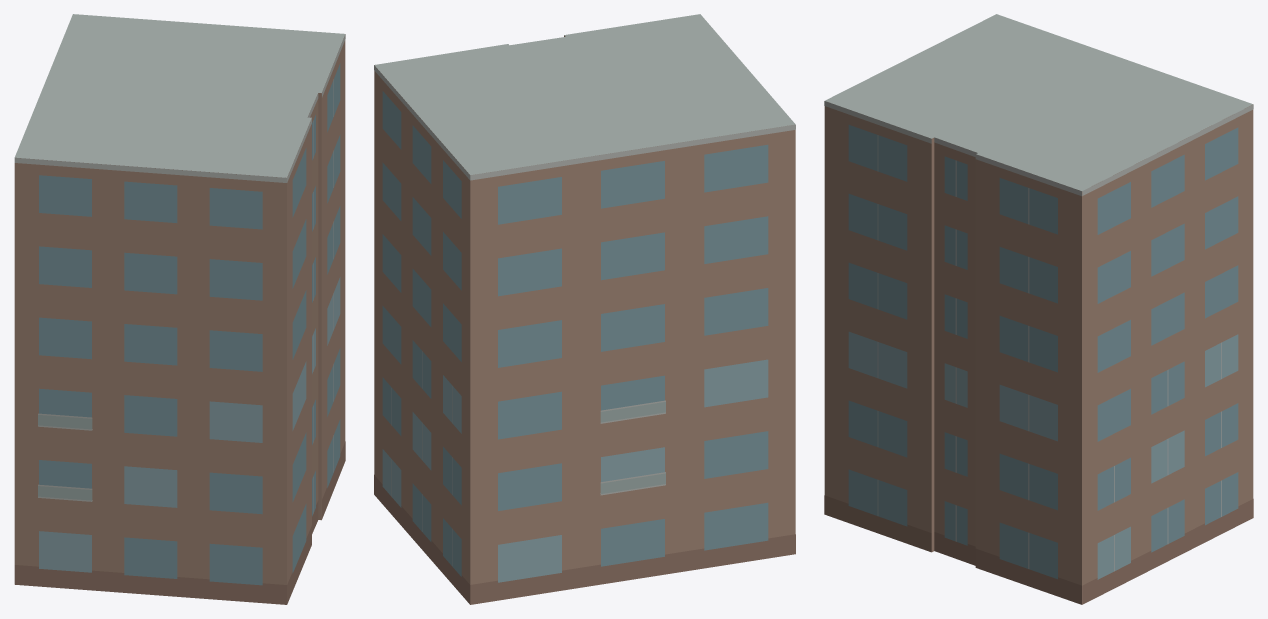
File: survey-upis-32883336.glb
3 views of the same model, side by side, from view 1: azimuth 30°, elevation 25°; view 2: azimuth 150°, elevation 25°; view 3: azimuth 270°, elevation 25° (orthographic). The views are drawn at different scales.
Visible parts, largest first — view 1: survey-upis-32883336.tmp; view 2: survey-upis-32883336.tmp; view 3: survey-upis-32883336.tmp.
Boxes of the visible parts, bbox=[...] form: survey-upis-32883336.tmp: bbox=[14, 14, 345, 604]; survey-upis-32883336.tmp: bbox=[374, 14, 795, 604]; survey-upis-32883336.tmp: bbox=[824, 14, 1253, 604].
Size of the model in its own units: 18.2 by 19.8 by 18.61.
